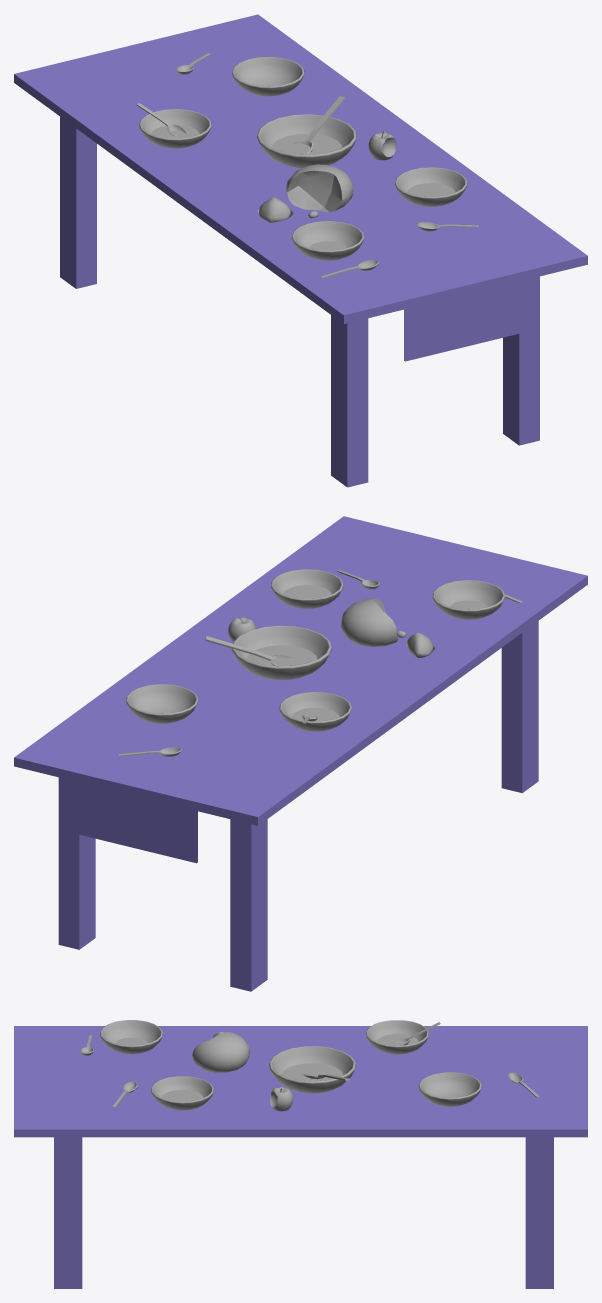
The model's file is table2.fbx.
The picture shows the model from 3 angles, top to bottom: view 1: azimuth 30°, elevation 25°; view 2: azimuth 150°, elevation 25°; view 3: azimuth 270°, elevation 25°; orthographic projection. The views are drawn at different scales.
Parts seen in each view (by area): view 1: pCube1, pCube2 (×2), pSphere3 (×3), pCube3, pSphere1, pSphere9, bowl, pDisc1, pSphere11, pPlatonic2; view 2: pCube1, pCube2 (×2), pSphere3 (×3), pCube3, pSphere1, bowl, pSphere9, pDisc1; view 3: pCube1, pCube3 (×2), pSphere3 (×3), pSphere1, pSphere9, bowl, pDisc1, pSphere11, pDisc2.
Boxes of the visible parts, x1,y1,x2,y2 form: pCube1: (14,14,587,361); pCube2 (×2): (60,117,368,487); pSphere3 (×3): (139,109,467,260); pCube3: (503,276,539,445); pSphere1: (256,114,356,168); pSphere9: (286,164,353,212); bowl: (231,56,304,96); pDisc1: (271,133,342,154); pSphere11: (368,132,396,160); pPlatonic2: (258,197,293,222); pCube1: (14,516,587,863); pCube2 (×2): (230,621,538,991); pSphere3 (×3): (271,569,505,731); pCube3: (58,777,95,949); pSphere1: (232,625,331,680); bowl: (126,684,198,723); pSphere9: (341,598,398,646); pDisc1: (246,645,317,665); pCube1: (14,1026,587,1137); pCube3 (×2): (54,1137,553,1288); pSphere3 (×3): (100,1020,428,1110); pSphere1: (269,1046,355,1093); pSphere9: (192,1031,249,1072); bowl: (418,1072,481,1106); pDisc1: (281,1063,343,1081); pSphere11: (270,1087,293,1111); pDisc2: (161,1090,203,1101).
Bounding box in the file's own units: 110 × 99.12 × 257.
